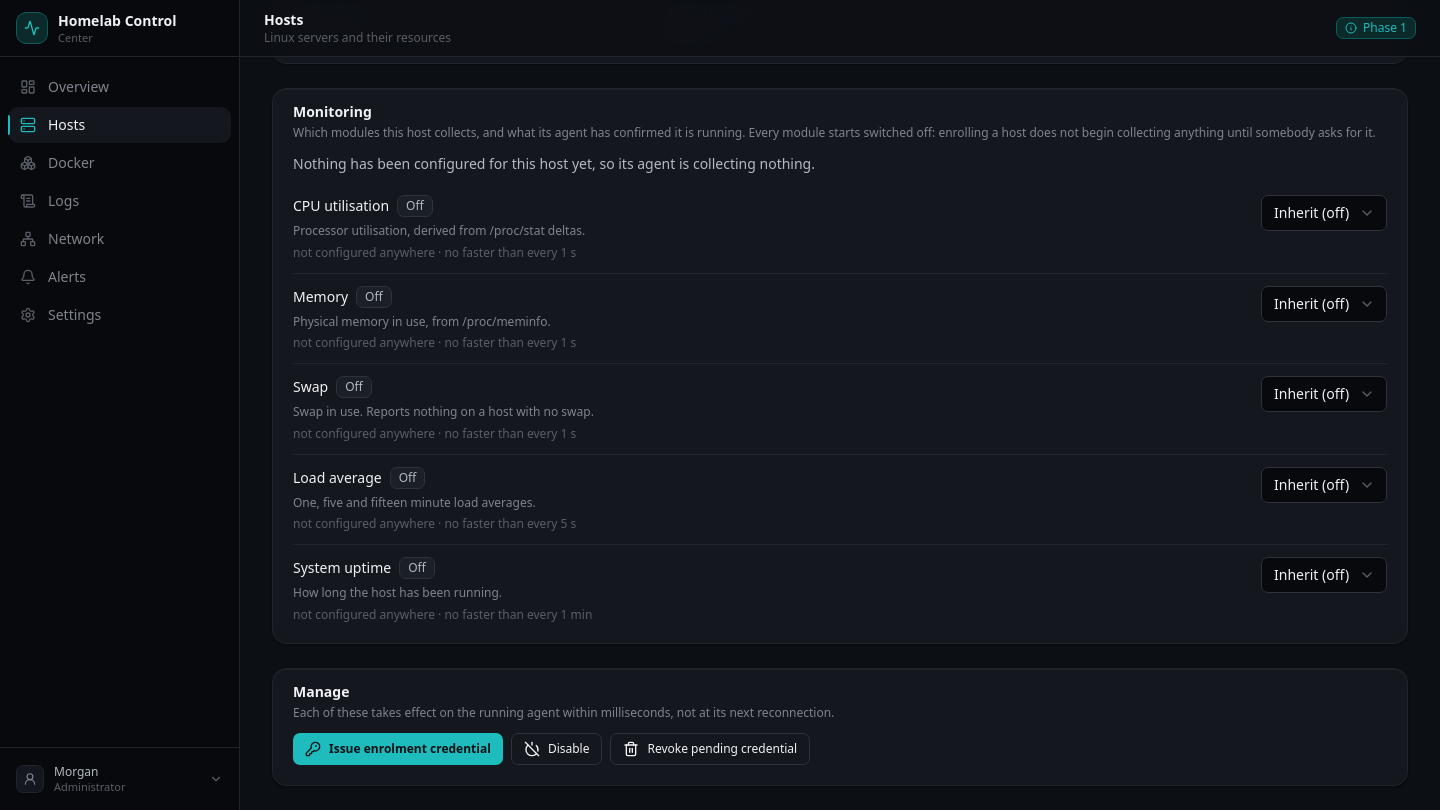
Scenario: revoking › reports a pending-credential revocation that revoked nothing
(page scrolled)
Note: Revoke it once...
Click the button "Revoke pending credential".
click(710, 749)  # box [610,733,810,765]
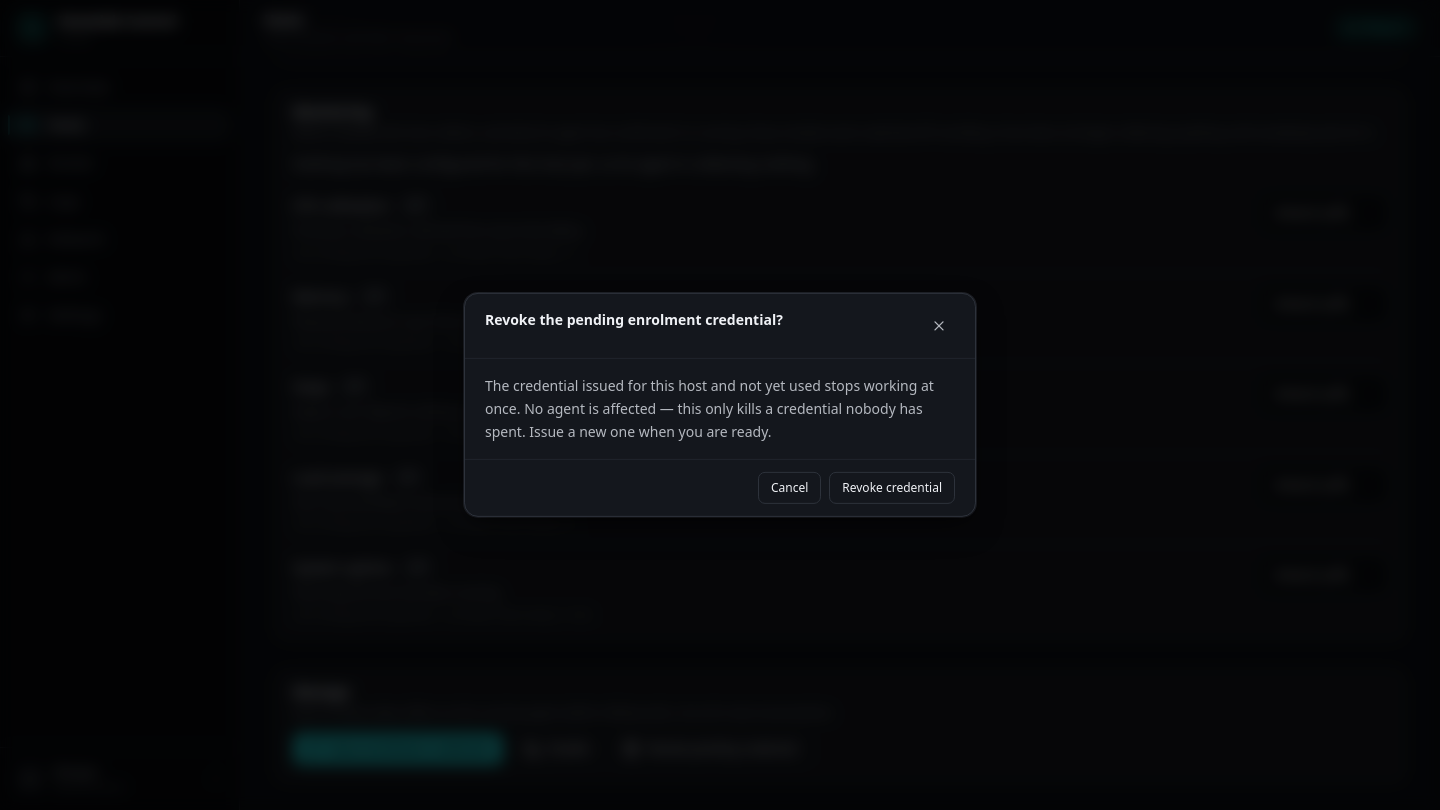
Click the button "Revoke credential".
click(892, 488)  # box [829,472,955,504]
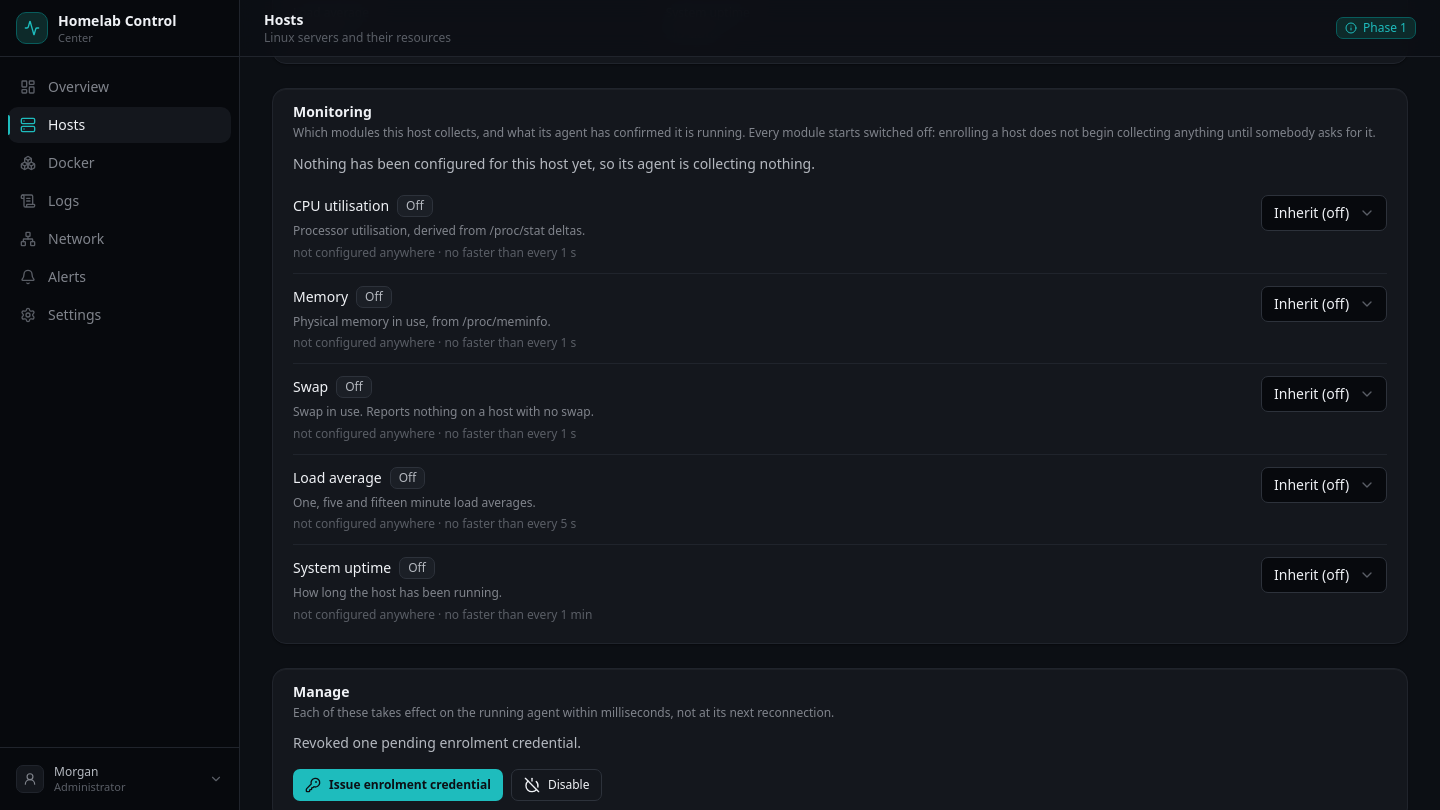
Result: the text "Revoked one pending enrolment credential." is shown at [293,733,581,752]
